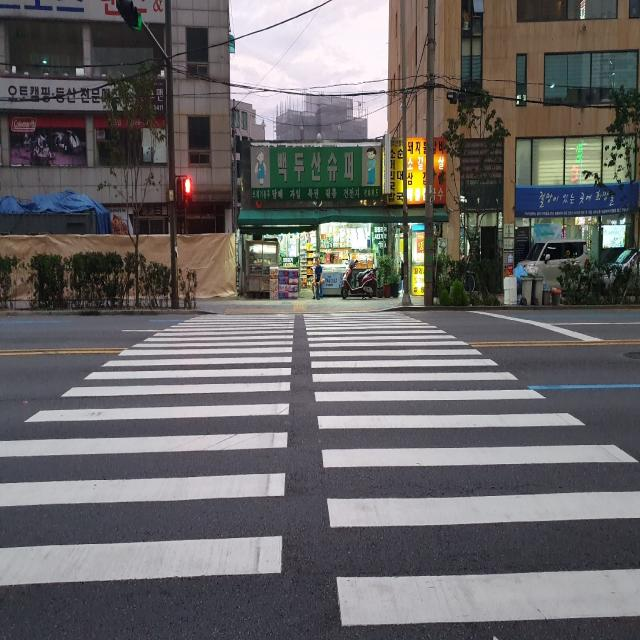빨간불: (186, 178, 193, 210)
횡단보도: (3, 303, 638, 635)
